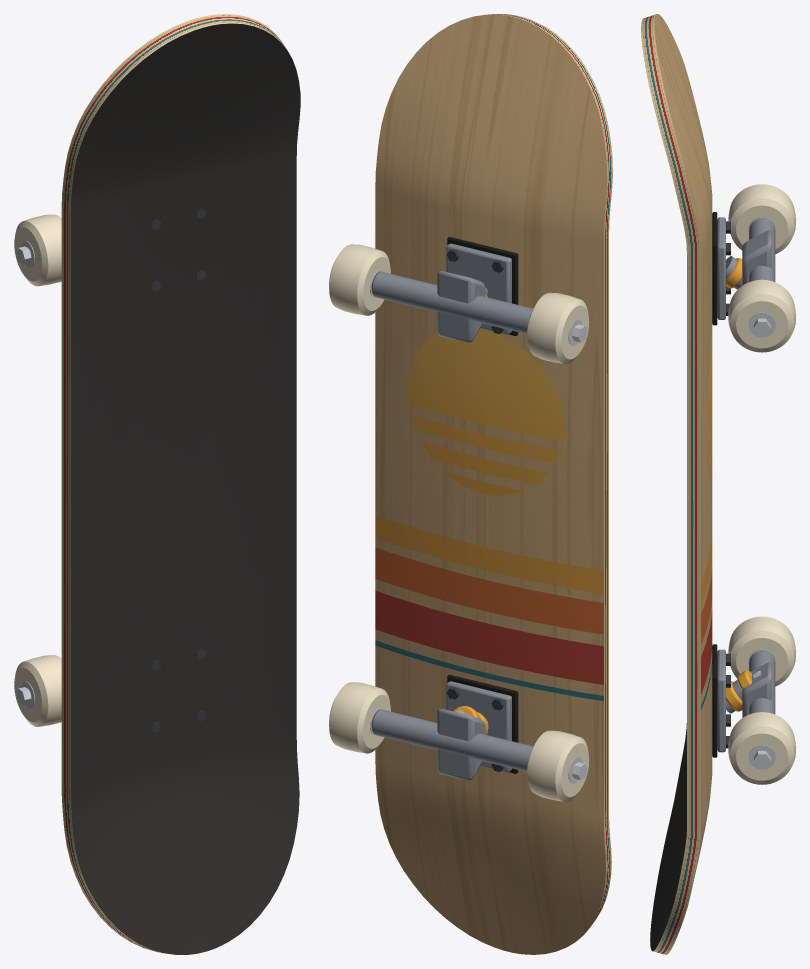
Rendered from skateboard.glb.
3 views of the same model, side by side, from view 1: azimuth 30°, elevation 25°; view 2: azimuth 150°, elevation 25°; view 3: azimuth 270°, elevation 25° (orthographic).
Visible parts, largest first — view 1: deck, wheel, kingpin, shield; view 2: deck, baseplate, wheel, riser, kingpin, shield; view 3: deck, wheel, baseplate, riser, kingpin, bushing, shield.
Boxes of the visible parts, <box> form: deck: <box>61,14,300,954</box>; wheel: <box>14,214,61,726</box>; kingpin: <box>16,241,35,708</box>; shield: <box>151,208,205,732</box>; deck: <box>375,14,612,954</box>; baseplate: <box>371,243,533,780</box>; wheel: <box>329,244,589,801</box>; riser: <box>447,237,518,773</box>; kingpin: <box>370,270,586,783</box>; shield: <box>447,249,504,771</box>; deck: <box>641,14,712,954</box>; wheel: <box>728,184,795,784</box>; baseplate: <box>717,217,775,752</box>; riser: <box>712,212,717,757</box>; kingpin: <box>748,217,775,769</box>; bushing: <box>726,258,751,711</box>; shield: <box>726,221,730,748</box>.
Bounding box in the file's own units: 0.228 × 0.8168 × 0.1247.
9 materials, 3 textured.
